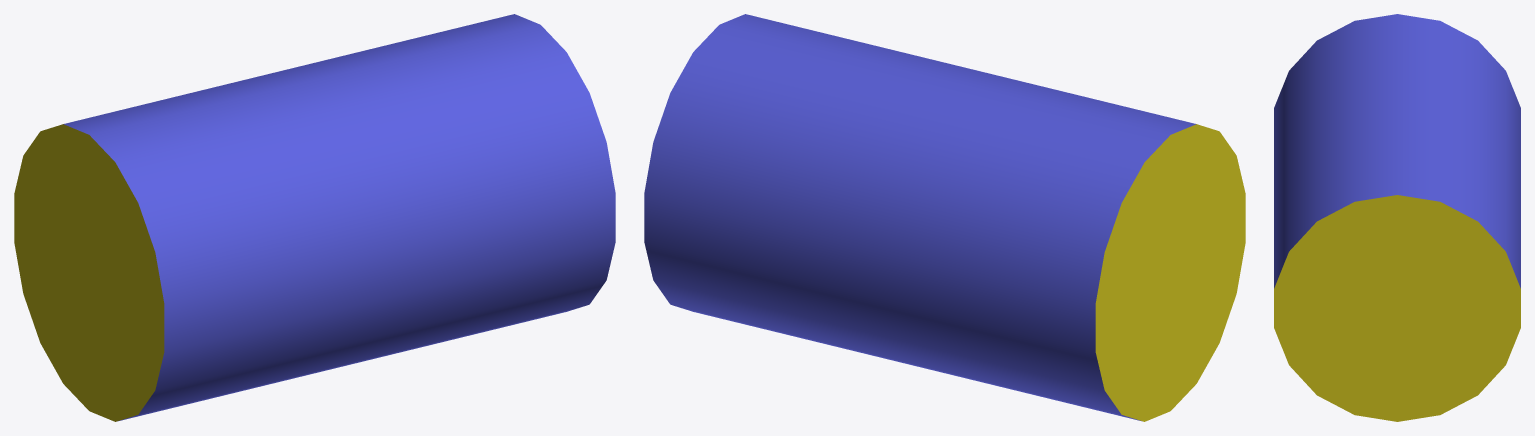
The model's file is SK_flashingLightMicrowave.fbx.
The picture shows the model from 3 angles, left to right: view 1: azimuth 30°, elevation 25°; view 2: azimuth 150°, elevation 25°; view 3: azimuth 270°, elevation 25°; orthographic projection. The views are drawn at different scales.
Parts seen in each view (by area): view 1: SK_flashingLightMicrowave; view 2: SK_flashingLightMicrowave; view 3: SK_flashingLightMicrowave.
Boxes of the visible parts, left/top/right/bottom form: SK_flashingLightMicrowave: left=14, top=14, right=615, bottom=421; SK_flashingLightMicrowave: left=644, top=14, right=1245, bottom=421; SK_flashingLightMicrowave: left=1274, top=14, right=1520, bottom=421.
Size of the model in its own units: 2.54 by 1.49 by 1.47.
